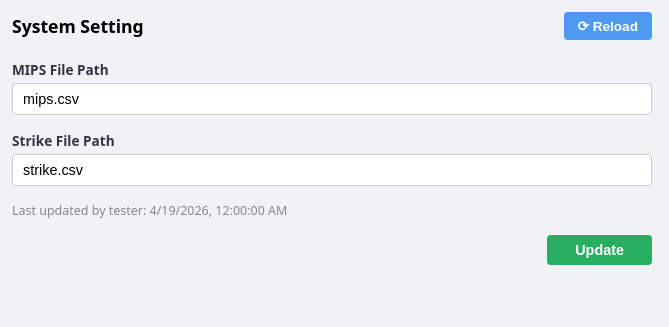
Test: pages smoke › shows error when saving system setting fails
Expected: the field showing "mips.csv" below "MIPS File Path" is shown, [12,83,652,115]
What coordinates should you click on to do the following:
click the button "Update"
I would click on:
 (600, 250)
Its box is [547,235,652,265].
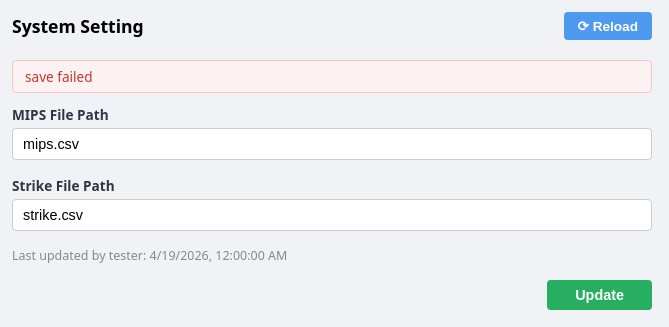
Expected: the button "Update" is enabled, [547,280,652,310]
Result: the text "save failed" is shown at [12,60,652,93]
